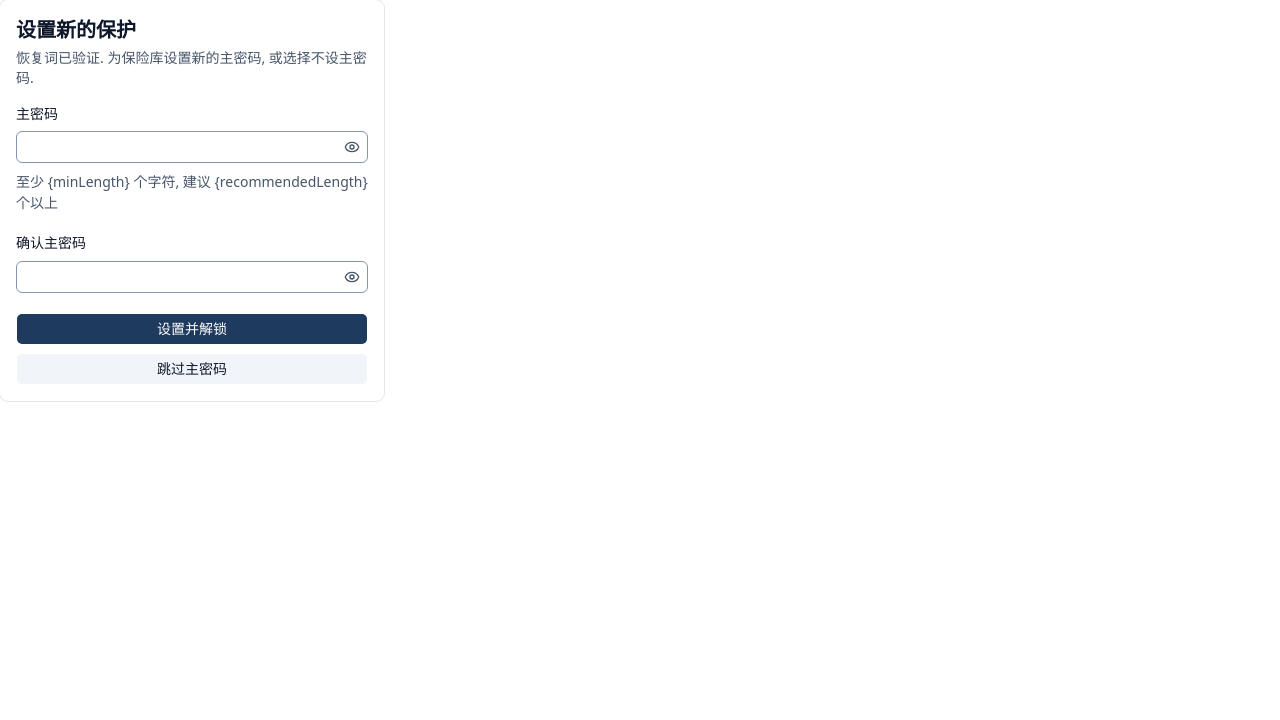
RestoreProtectionStep 跳过主密码 › 系统不能保护数据密钥时关闭确认框并提示
Click the button "跳过主密码" at (192, 368), box [16,352,368,384]
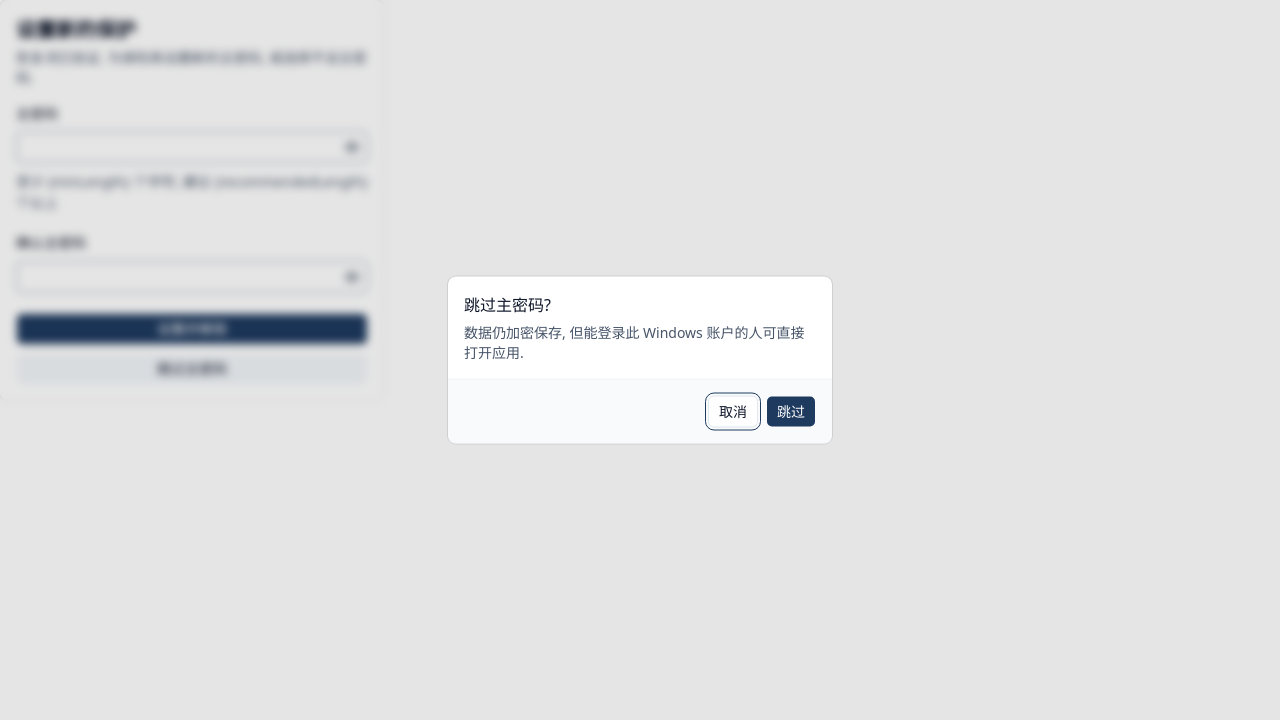
Click the button "跳过" at (791, 412), box [766,396,816,428]
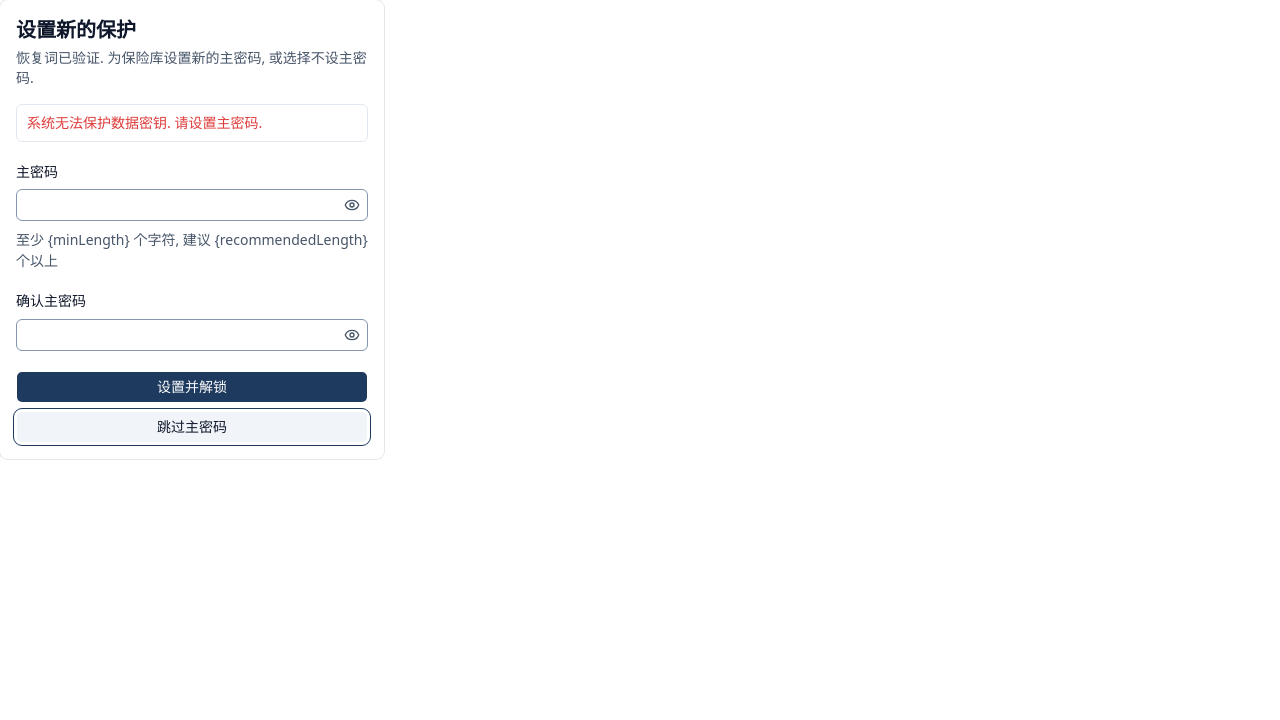
expect the dialog is gone: met
expect the message reads "系统无法保护数据密钥. 请设置主密码.": met, box [27,113,262,132]
